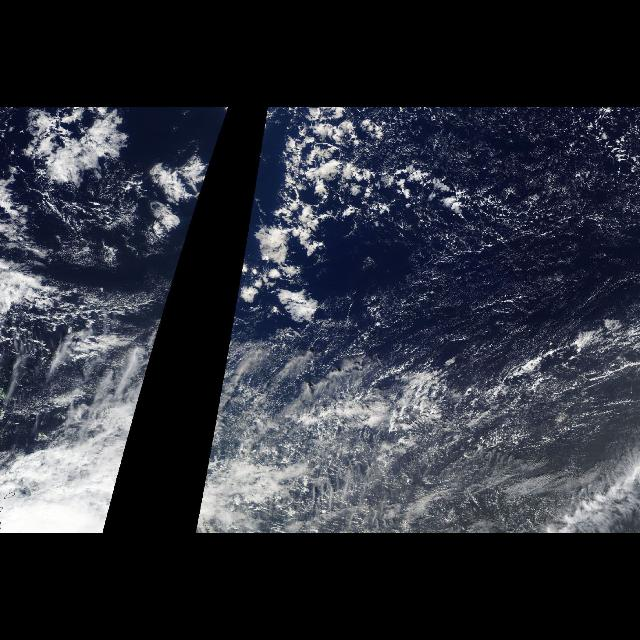Gravel: (324, 108, 636, 322)
Sugar: (363, 232, 612, 336), (462, 112, 614, 228)
